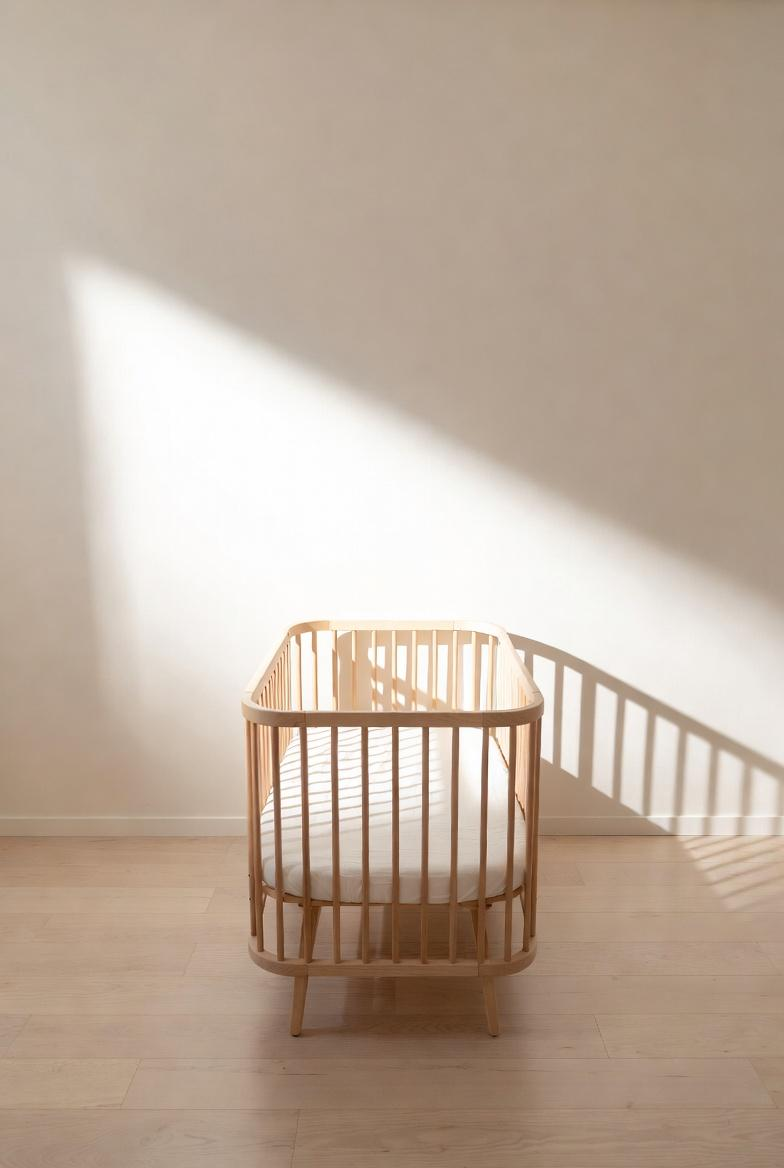crib: (242, 621, 543, 1035)
